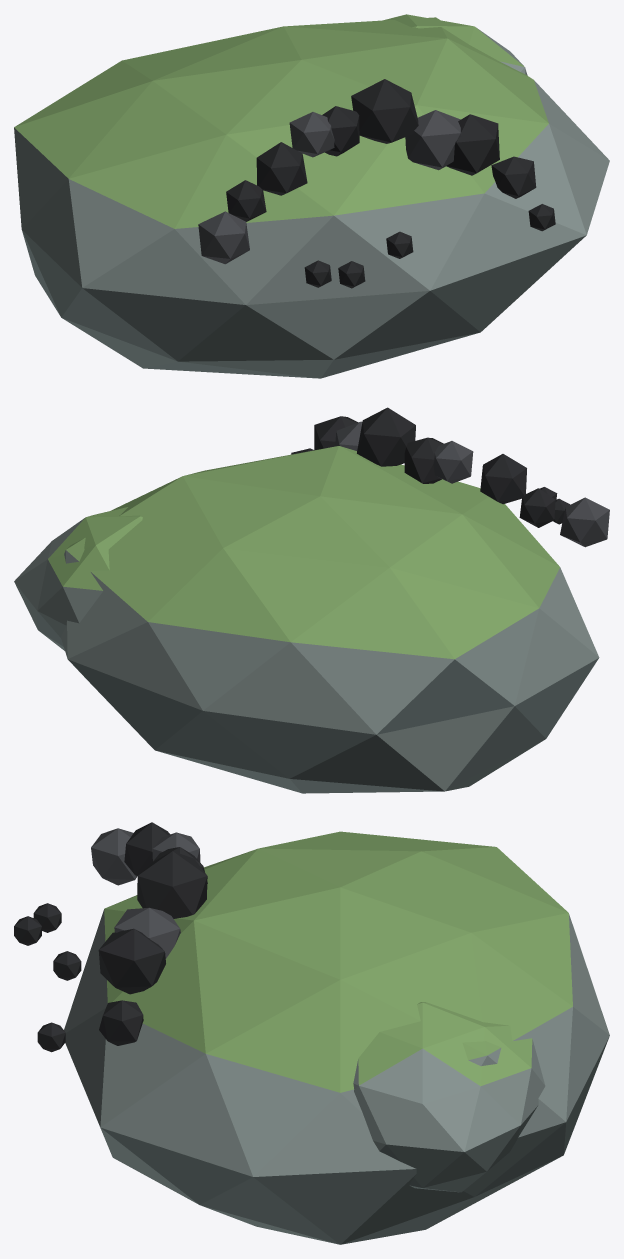
File: vein_hill_coal.glb
The picture shows the model from 3 angles, top to bottom: view 1: azimuth 30°, elevation 25°; view 2: azimuth 150°, elevation 25°; view 3: azimuth 270°, elevation 25°; orthographic projection. The views are drawn at different scales.
Parts seen in each view (by area): view 1: body; view 2: body; view 3: body.
Part boxes in pixels (left/top/right/bottom): body: left=14, top=14, right=609, bottom=378; body: left=14, top=407, right=609, bottom=793; body: left=14, top=822, right=609, bottom=1244.
Bounding box in the file's own units: 4.79 × 2.81 × 4.34.
